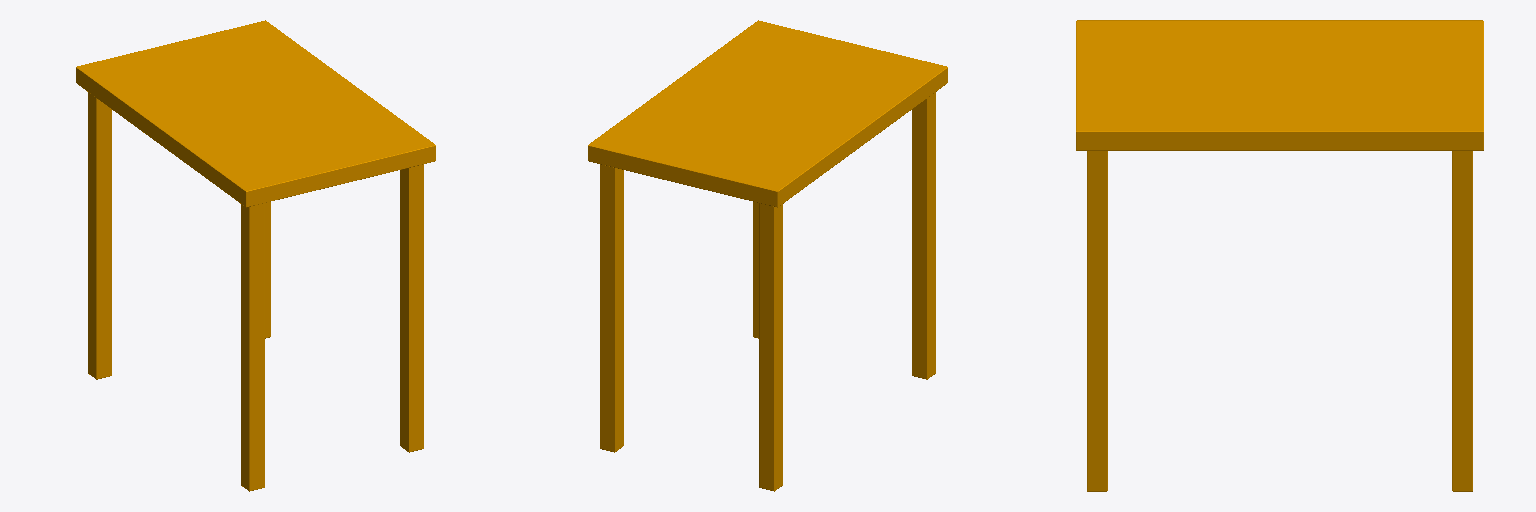
The robot description file, URDF, robot "arat_standard_table":
<?xml version="1.0" ?>
<robot name="arat_standard_table">
  <link name="base_link">
    <inertial>
      <origin xyz="0 0 0.375" rpy="0 0 0"/>
      <mass value="9.72"/>
      <inertia ixx="0.923481" ixy="0" ixz="0" iyy="0.650106" iyz="0" izz="0.662337"/>
    </inertial>
    <visual name="visual">
      <origin xyz="0 0 0" rpy="0 0 0"/>
      <geometry>
        <mesh filename="meshes/visual.obj" scale="1 1 1"/>
      </geometry>
    </visual>
    <collision name="tabletop">
      <origin xyz="0 0 0" rpy="0 0 0"/>
      <geometry>
        <mesh filename="meshes/collision/tabletop.obj" scale="1 1 1"/>
      </geometry>
    </collision>
    <collision name="leg_1">
      <origin xyz="0 0 0" rpy="0 0 0"/>
      <geometry>
        <mesh filename="meshes/collision/leg_1.obj" scale="1 1 1"/>
      </geometry>
    </collision>
    <collision name="leg_2">
      <origin xyz="0 0 0" rpy="0 0 0"/>
      <geometry>
        <mesh filename="meshes/collision/leg_2.obj" scale="1 1 1"/>
      </geometry>
    </collision>
    <collision name="leg_3">
      <origin xyz="0 0 0" rpy="0 0 0"/>
      <geometry>
        <mesh filename="meshes/collision/leg_3.obj" scale="1 1 1"/>
      </geometry>
    </collision>
    <collision name="leg_4">
      <origin xyz="0 0 0" rpy="0 0 0"/>
      <geometry>
        <mesh filename="meshes/collision/leg_4.obj" scale="1 1 1"/>
      </geometry>
    </collision>
  </link>
</robot>

--- Render facts (derived) ---
3 views of the same robot in one strip: view 1: azimuth 30°, elevation 25°; view 2: azimuth 150°, elevation 25°; view 3: azimuth 270°, elevation 25° (orthographic).
Robot: arat_standard_table — 1 links, 0 joints (none); root link base_link; default pose: every joint at zero.
Visible links, largest first — view 1: base_link; view 2: base_link; view 3: base_link.
Boxes of the visible links, x1,y1,x2,y2 form: base_link: (76,20,435,491); base_link: (588,20,947,491); base_link: (1076,20,1483,491).
Bounding box of the posed robot: 0.49 × 0.76 × 0.75 m (x, y, z).
Meshes: 1 distinct files referenced, 1 mesh visuals loaded (1 OBJ).
